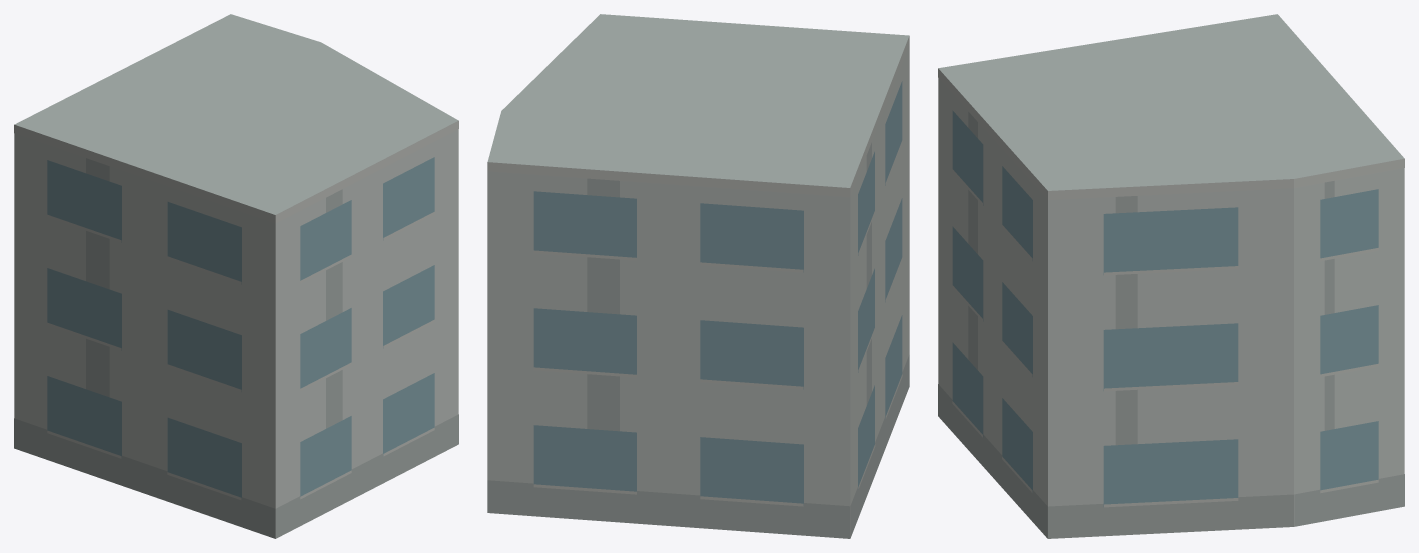
The model's file is residential-46f45df5-3446-45a1-b880-80e6e182eae1.glb.
The picture shows the model from 3 angles, left to right: view 1: azimuth 30°, elevation 25°; view 2: azimuth 150°, elevation 25°; view 3: azimuth 270°, elevation 25°; orthographic projection. The views are drawn at different scales.
Visible parts, largest first — view 1: residential-46f45df5-3446-45a1-b880-80e6e182eae1.tmp; view 2: residential-46f45df5-3446-45a1-b880-80e6e182eae1.tmp; view 3: residential-46f45df5-3446-45a1-b880-80e6e182eae1.tmp.
Part boxes in pixels (<box>): residential-46f45df5-3446-45a1-b880-80e6e182eae1.tmp: <box>14,14,458,538</box>; residential-46f45df5-3446-45a1-b880-80e6e182eae1.tmp: <box>487,14,909,538</box>; residential-46f45df5-3446-45a1-b880-80e6e182eae1.tmp: <box>938,14,1404,538</box>.
Bounding box in the file's own units: 9.99 × 9.15 × 11.13.
